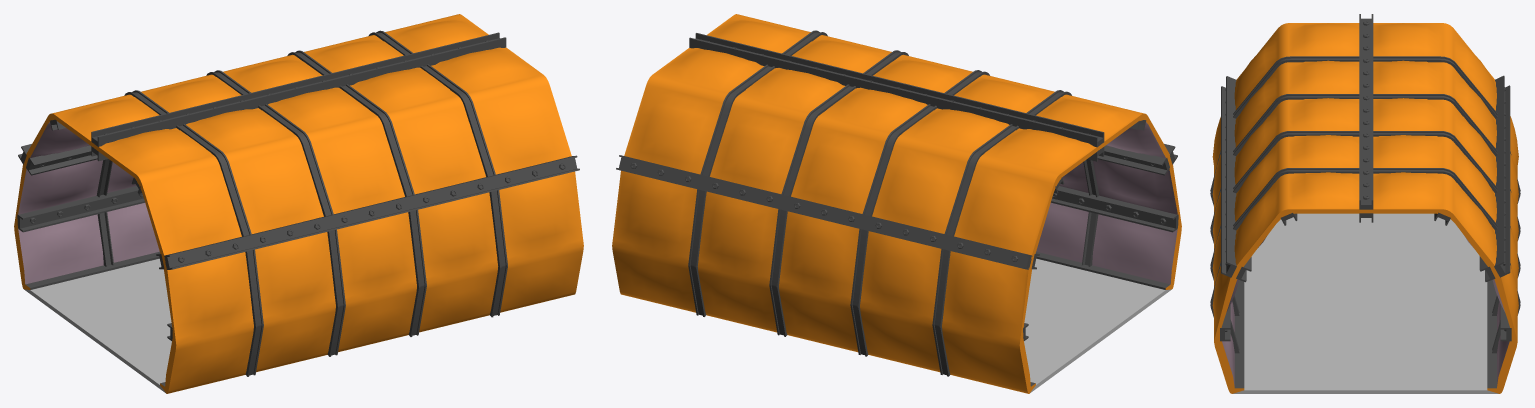
File: Habitat02.fbx
The picture shows the model from 3 angles, left to right: view 1: azimuth 30°, elevation 25°; view 2: azimuth 150°, elevation 25°; view 3: azimuth 270°, elevation 25°; orthographic projection. The views are drawn at different scales.
Visible parts, largest first — view 1: SM_Habitat02; view 2: SM_Habitat02; view 3: SM_Habitat02.
Boxes of the visible parts, bbox=[...] form: SM_Habitat02: bbox=[14, 14, 583, 393]; SM_Habitat02: bbox=[612, 14, 1181, 393]; SM_Habitat02: bbox=[1210, 14, 1520, 393].
Size of the model in its own units: 800 by 388 by 563.
